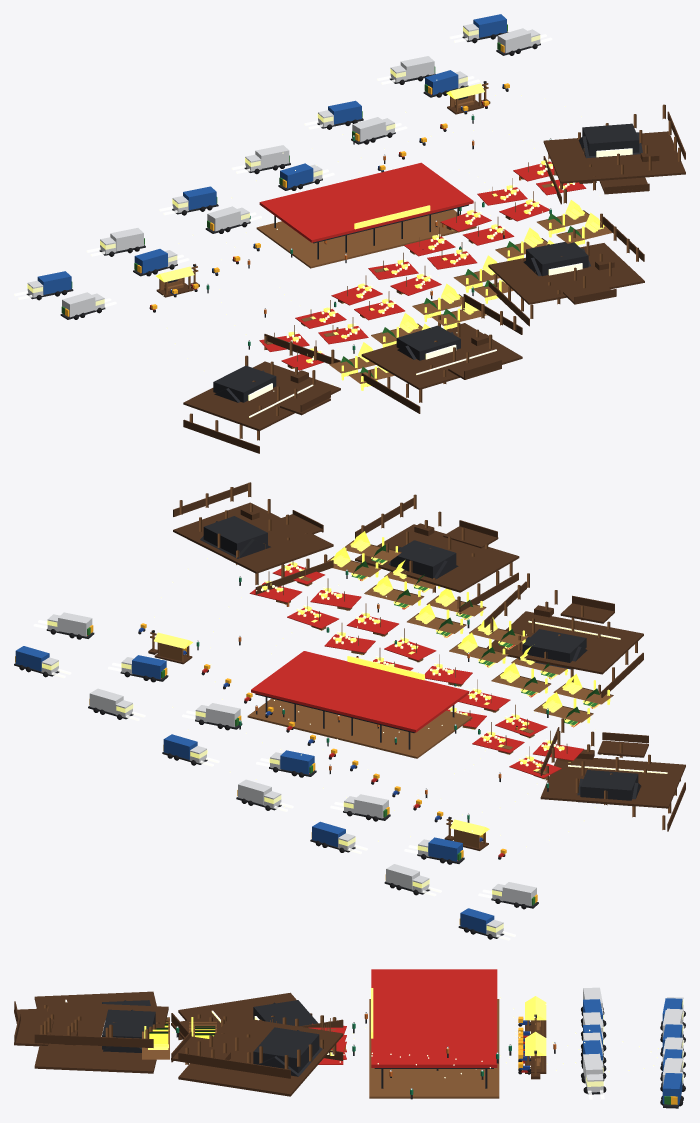
Rendered from ul_w7_03_trai_mat_night_agri_market_trucks_and_station_streetlife.glb.
The picture shows the model from 3 angles, top to bottom: view 1: azimuth 30°, elevation 25°; view 2: azimuth 150°, elevation 25°; view 3: azimuth 270°, elevation 25°; orthographic projection. The views are drawn at different scales.
Visible parts, largest first — view 1: ul_w7_03_cedar_dark_wood, ul_w7_03_coaster_red, ul_w7_03_pine_deck_wood, ul_w7_03_dark_iron_frame, ul_w7_03_truck_box_white, ul_w7_03_neon_sign_gold, ul_w7_03_truck_tarp_blue, ul_w7_03_warm_string_bulb, ul_w7_03_rubber_tire, ul_w7_03_headlight_beam, ul_w7_03_warm_cafe_window, ul_w7_03_foliage_green (+1 smaller); view 2: ul_w7_03_cedar_dark_wood, ul_w7_03_coaster_red, ul_w7_03_pine_deck_wood, ul_w7_03_dark_iron_frame, ul_w7_03_truck_box_white, ul_w7_03_neon_sign_gold, ul_w7_03_truck_tarp_blue, ul_w7_03_warm_string_bulb, ul_w7_03_foliage_green, ul_w7_03_rubber_tire, ul_w7_03_headlight_beam, ul_w7_03_warm_cafe_window (+1 smaller); view 3: ul_w7_03_cedar_dark_wood, ul_w7_03_coaster_red, ul_w7_03_pine_deck_wood, ul_w7_03_dark_iron_frame, ul_w7_03_truck_box_white, ul_w7_03_truck_tarp_blue, ul_w7_03_neon_sign_gold, ul_w7_03_rubber_tire, ul_w7_03_marigold_gold, ul_w7_03_foliage_green, ul_w7_03_warm_string_bulb.
Part boxes in pixels (left/top/right/bottom): ul_w7_03_cedar_dark_wood: left=156, top=99, right=685, bottom=453; ul_w7_03_coaster_red: left=150, top=101, right=586, bottom=386; ul_w7_03_pine_deck_wood: left=159, top=81, right=680, bottom=440; ul_w7_03_dark_iron_frame: left=26, top=31, right=642, bottom=402; ul_w7_03_truck_box_white: left=27, top=23, right=551, bottom=345; ul_w7_03_neon_sign_gold: left=156, top=83, right=604, bottom=390; ul_w7_03_truck_tarp_blue: left=37, top=14, right=506, bottom=294; ul_w7_03_warm_string_bulb: left=162, top=79, right=632, bottom=417; ul_w7_03_rubber_tire: left=36, top=33, right=537, bottom=319; ul_w7_03_headlight_beam: left=14, top=33, right=552, bottom=307; ul_w7_03_warm_cafe_window: left=27, top=27, right=540, bottom=305; ul_w7_03_foliage_green: left=61, top=24, right=581, bottom=383; ul_w7_03_cedar_dark_wood: left=148, top=482, right=685, bottom=850; ul_w7_03_coaster_red: left=202, top=562, right=598, bottom=857; ul_w7_03_pine_deck_wood: left=150, top=482, right=680, bottom=848; ul_w7_03_dark_iron_frame: left=14, top=516, right=640, bottom=938; ul_w7_03_truck_box_white: left=41, top=569, right=548, bottom=937; ul_w7_03_neon_sign_gold: left=154, top=531, right=610, bottom=835; ul_w7_03_truck_tarp_blue: left=15, top=646, right=494, bottom=933; ul_w7_03_warm_string_bulb: left=152, top=548, right=667, bottom=847; ul_w7_03_foliage_green: left=87, top=544, right=599, bottom=905; ul_w7_03_rubber_tire: left=19, top=629, right=526, bottom=939; ul_w7_03_headlight_beam: left=33, top=620, right=515, bottom=940; ul_w7_03_warm_cafe_window: left=42, top=620, right=503, bottom=932; ul_w7_03_cedar_dark_wood: left=14, top=991, right=546, bottom=1096; ul_w7_03_coaster_red: left=308, top=969, right=528, bottom=1072; ul_w7_03_pine_deck_wood: left=40, top=999, right=543, bottom=1098; ul_w7_03_dark_iron_frame: left=102, top=1000, right=678, bottom=1108; ul_w7_03_truck_box_white: left=176, top=987, right=683, bottom=1092; ul_w7_03_truck_tarp_blue: left=583, top=998, right=682, bottom=1104; ul_w7_03_neon_sign_gold: left=144, top=988, right=546, bottom=1055; ul_w7_03_rubber_tire: left=518, top=1006, right=685, bottom=1106; ul_w7_03_marigold_gold: left=518, top=1016, right=677, bottom=1104; ul_w7_03_foliage_green: left=149, top=1018, right=670, bottom=1104; ul_w7_03_warm_string_bulb: left=65, top=997, right=658, bottom=1078.
Size of the model in its own units: 96.43 by 38.26 by 92.92.
